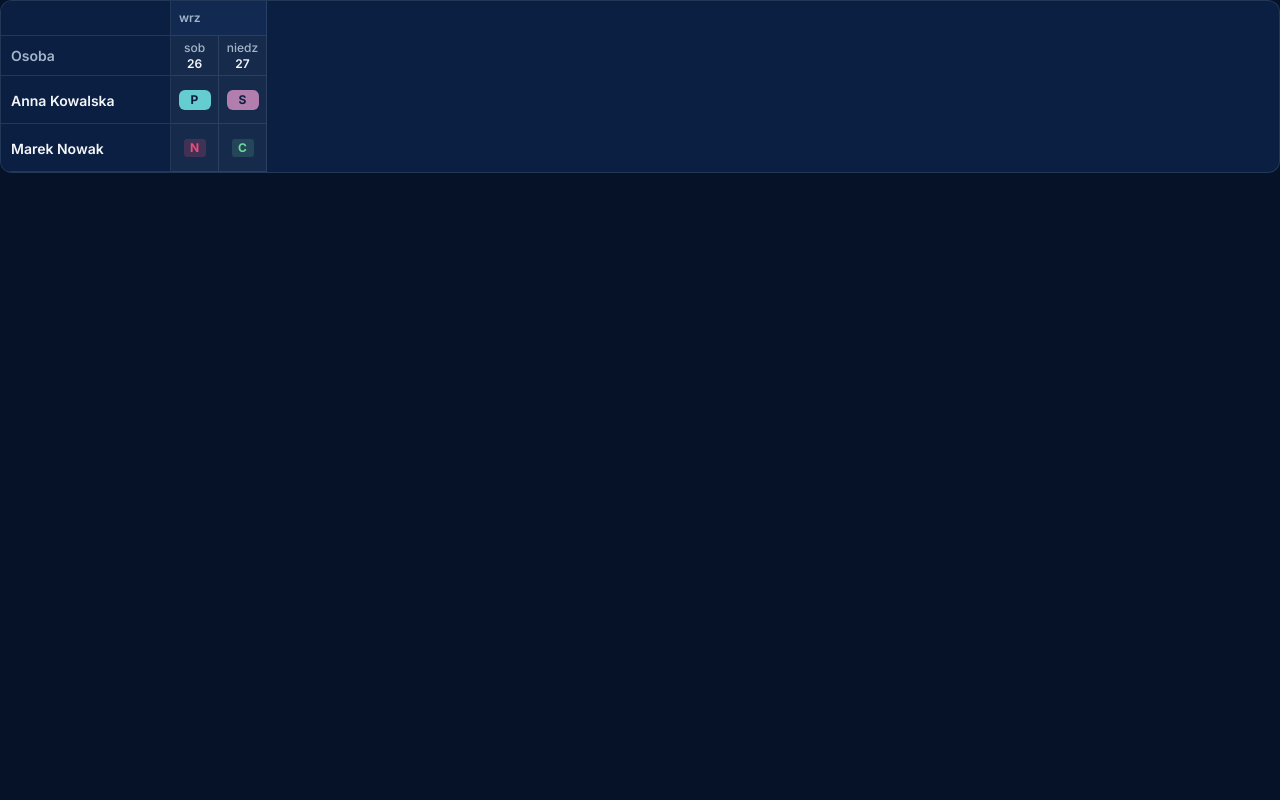
Test: DraftScheduleMatrix inspector › opens on the role a person holds, prices a day off at two points and names the holiday
Anna holds SECONDARY on Sunday: the inspector opens on it.
Click the button named "Anna Kowalska, niedz 27-09-2026": point(242, 100) [219,76,266,123]
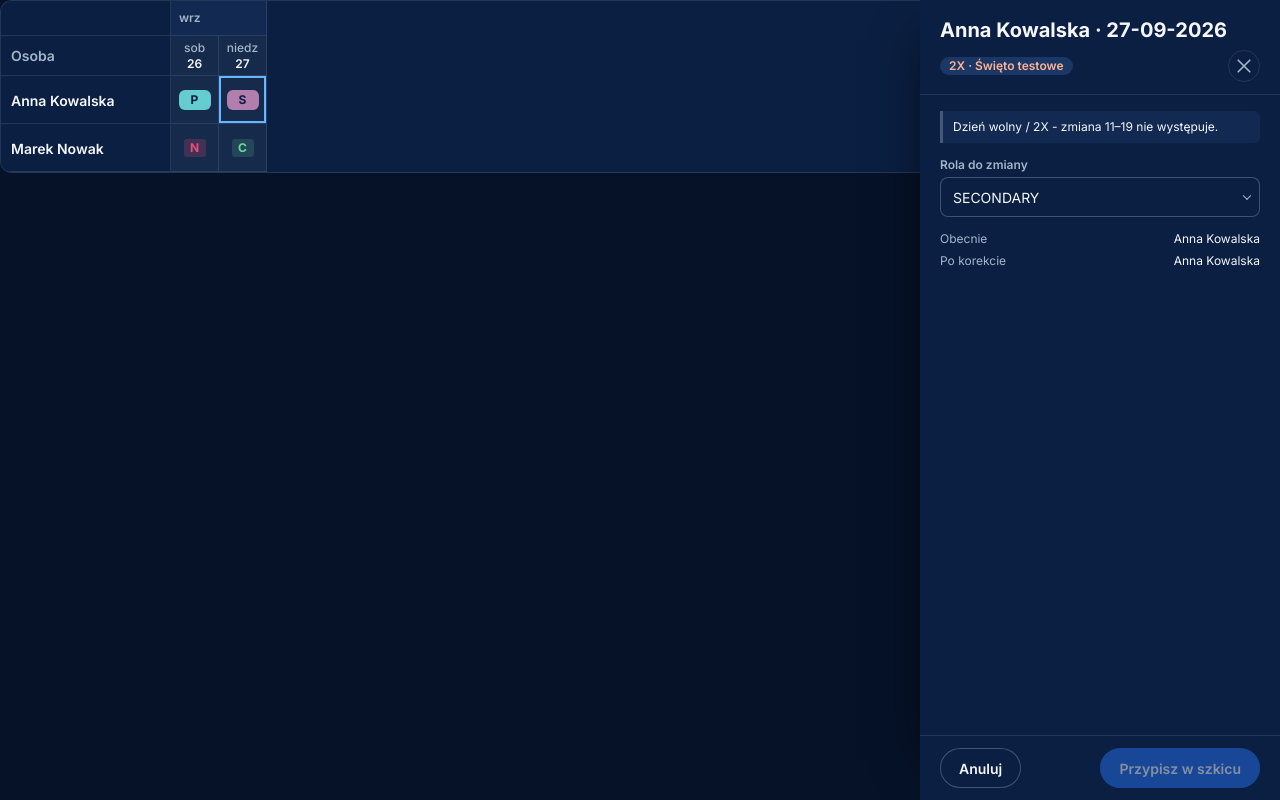
Expected: the text "2X · Święto testowe" is shown, [940,57,1073,75]
Expected: the dropdown labelled "Rola do zmiany" shows "SECONDARY", [940,177,1260,217]
Expected: the button "Przypisz w szkicu" is disabled, [1100,748,1260,788]
Click the button named "Marek Nowak, niedz 27-09-2026": point(242, 148) [219,124,266,171]
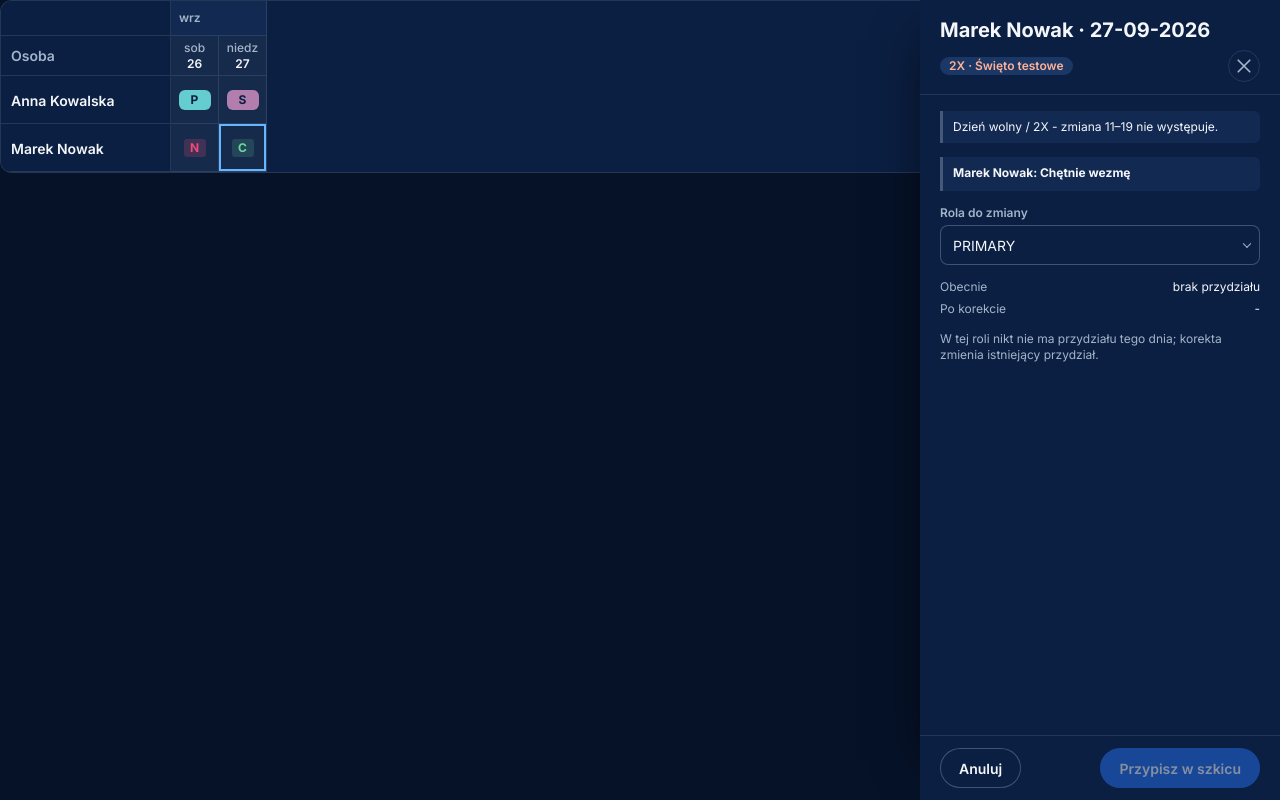
Expected: the dropdown labelled "Rola do zmiany" shows "PRIMARY"
Expected: the text "brak przydziału" is shown, [1173,279,1260,295]
Expected: the text "nikt nie ma przydziału tego dnia" is shown, [940,331,1222,362]
Select "SECONDARY" in the dropdown labelled "Rola do zmiany": point(1100, 245) [940,225,1260,265]
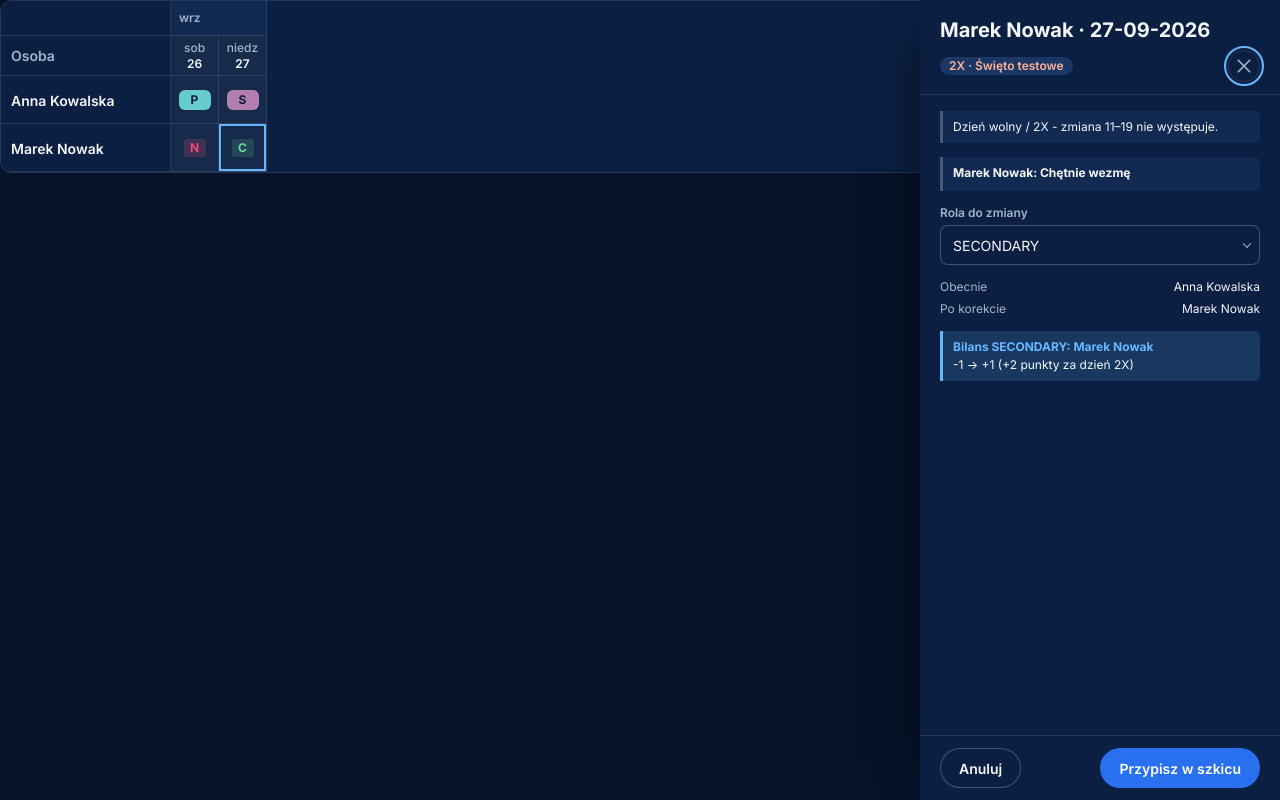
Expected: the text "Anna Kowalska" in the row of "Obecnie" is shown, [1174,279,1260,294]
Expected: the text "Bilans SECONDARY: Marek Nowak" shows "-1 → +1 (+2 punkty za dzień 2X)", [953,357,1134,372]
